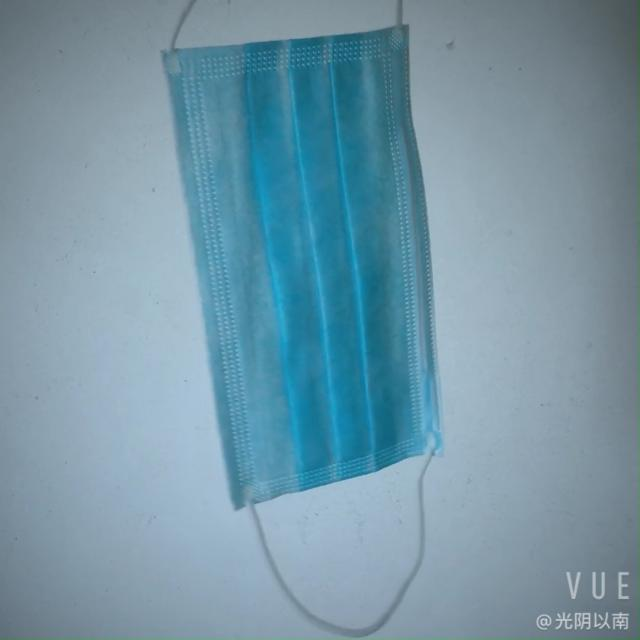non-organic waste: (165, 11, 453, 504)
